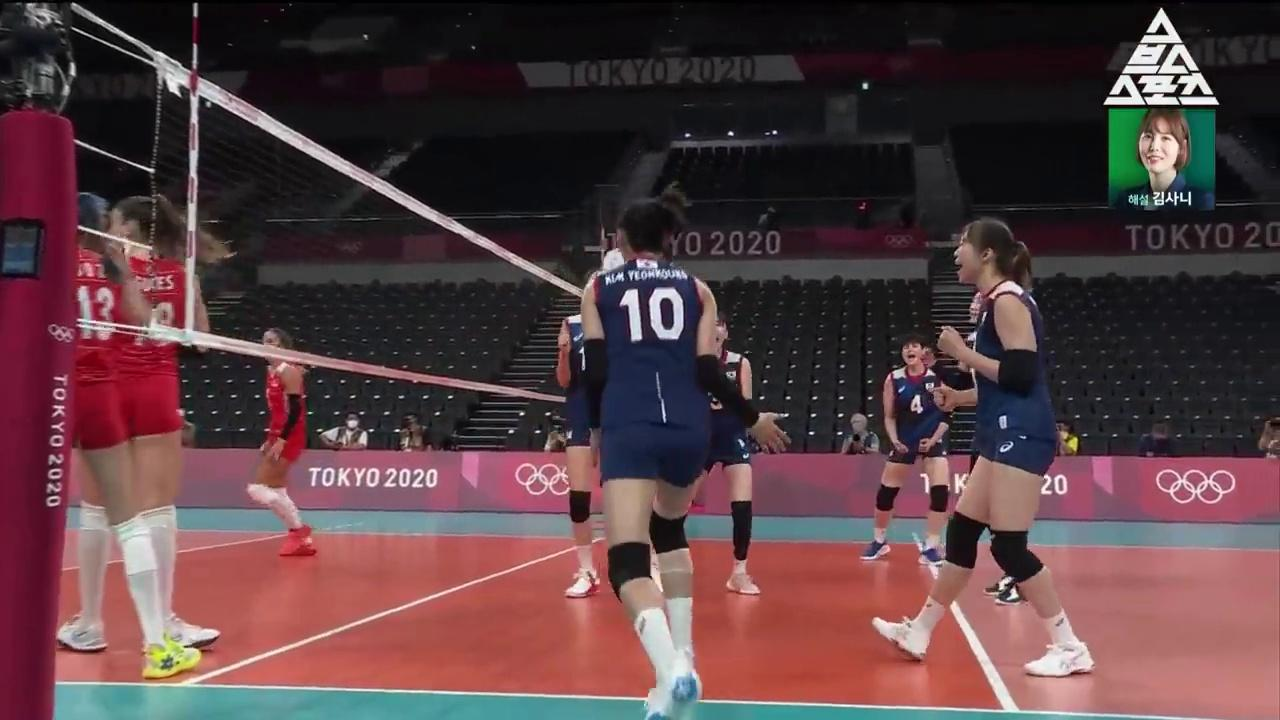player: (582, 185, 790, 720), (872, 219, 1095, 677), (44, 193, 202, 678), (59, 196, 220, 652), (559, 272, 664, 596), (658, 314, 761, 594), (860, 336, 949, 564), (248, 328, 318, 556)
